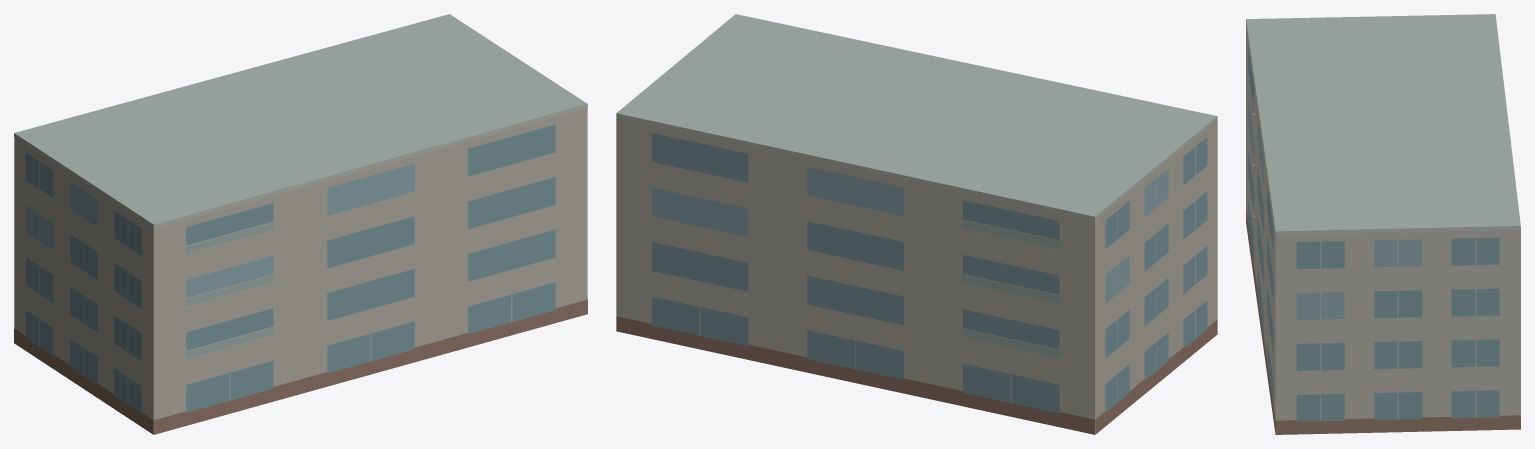
The model's file is survey-upis-32635482.glb.
The picture shows the model from 3 angles, left to right: view 1: azimuth 30°, elevation 25°; view 2: azimuth 150°, elevation 25°; view 3: azimuth 270°, elevation 25°; orthographic projection. The views are drawn at different scales.
Visible parts, largest first — view 1: survey-upis-32635482.tmp; view 2: survey-upis-32635482.tmp; view 3: survey-upis-32635482.tmp.
Part boxes in pixels (bbox=[...]): survey-upis-32635482.tmp: bbox=[14, 14, 587, 434]; survey-upis-32635482.tmp: bbox=[616, 14, 1217, 434]; survey-upis-32635482.tmp: bbox=[1246, 14, 1520, 434].
Size of the model in its own units: 27.94 by 12.2 by 14.93.
